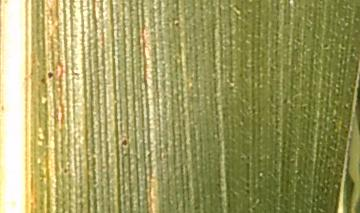tarspot: (118, 135, 130, 150), (45, 69, 57, 82), (61, 166, 71, 176)
